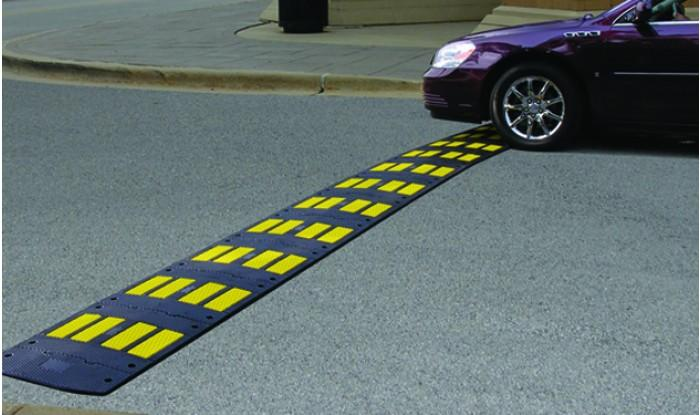Bump: (0, 129, 509, 402)
